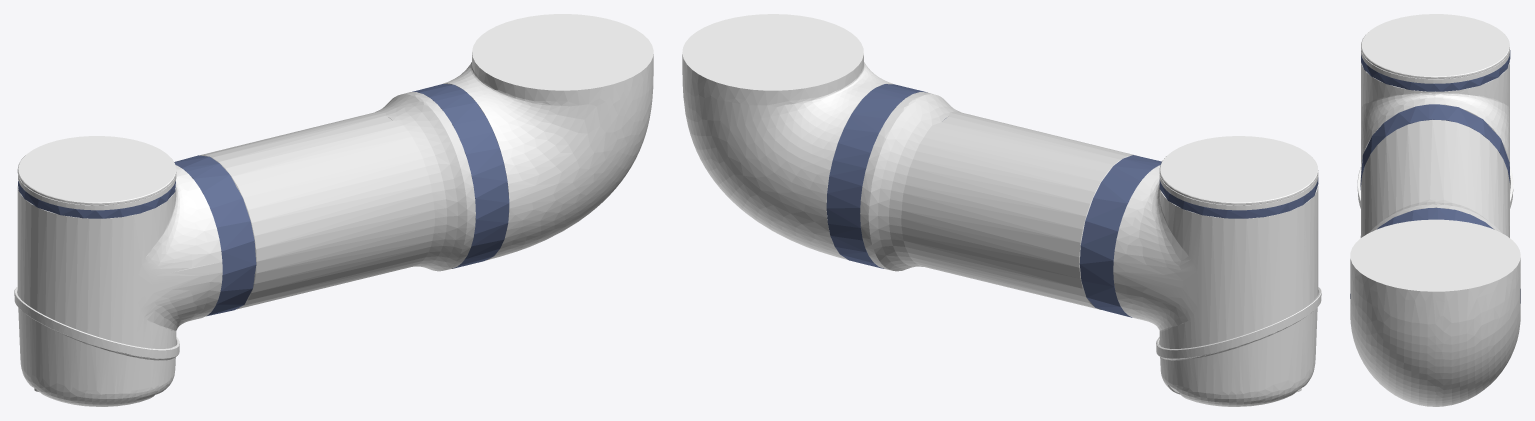
Rendered from forearm.dae.
3 views of the same model, side by side, from view 1: azimuth 30°, elevation 25°; view 2: azimuth 150°, elevation 25°; view 3: azimuth 270°, elevation 25° (orthographic). The views are drawn at different scales.
Visible parts, largest first — view 1: cs63_link3_part1, cs63_link3_part3, cs63_link3_part2; view 2: cs63_link3_part1, cs63_link3_part3, cs63_link3_part2; view 3: cs63_link3_part1, cs63_link3_part3, cs63_link3_part2.
Part boxes in pixels (x1=…): cs63_link3_part1: x1=14, y1=14, x2=653, y2=406; cs63_link3_part3: x1=199, y1=92, x2=475, y2=309; cs63_link3_part2: x1=18, y1=84, x2=509, y2=316; cs63_link3_part1: x1=682, y1=14, x2=1321, y2=406; cs63_link3_part3: x1=860, y1=92, x2=1137, y2=309; cs63_link3_part2: x1=826, y1=84, x2=1318, y2=317; cs63_link3_part1: x1=1350, y1=14, x2=1520, y2=406; cs63_link3_part3: x1=1360, y1=120, x2=1509, y2=237; cs63_link3_part2: x1=1350, y1=50, x2=1520, y2=303.
Bounding box in the file's own units: 0.3406 × 0.0871 × 0.1181.
